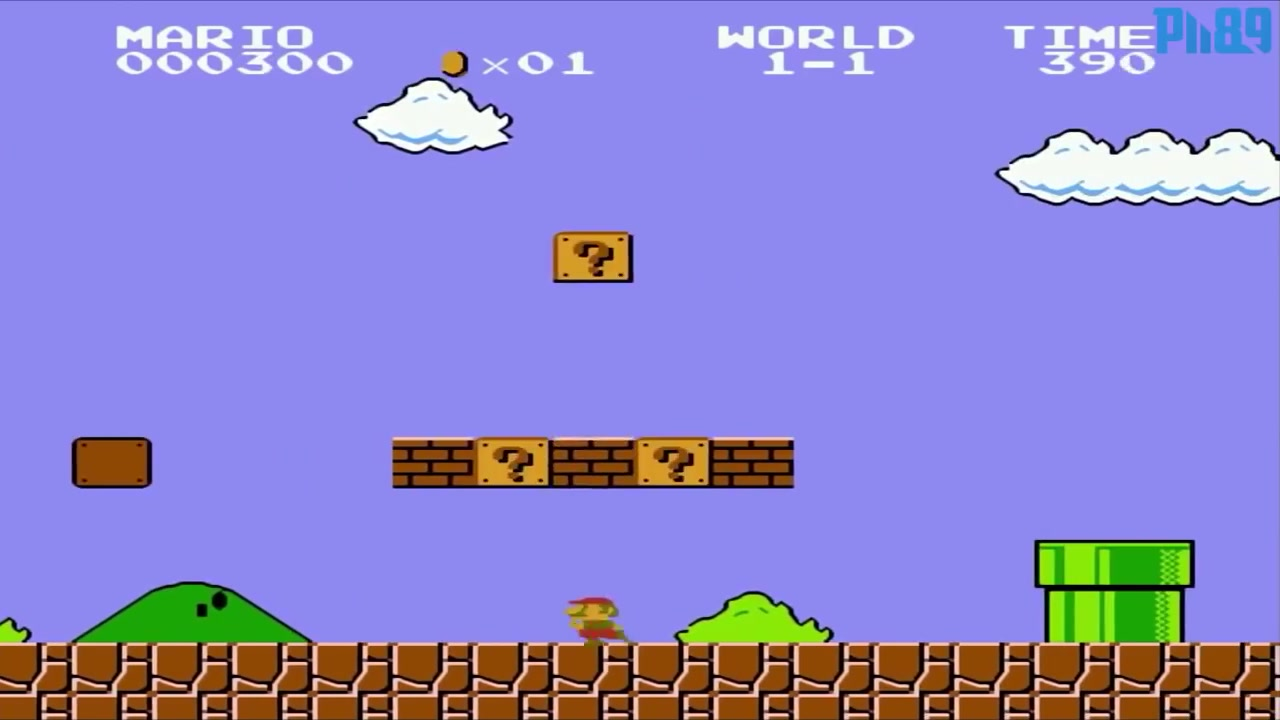mario: (556, 587, 633, 645)
